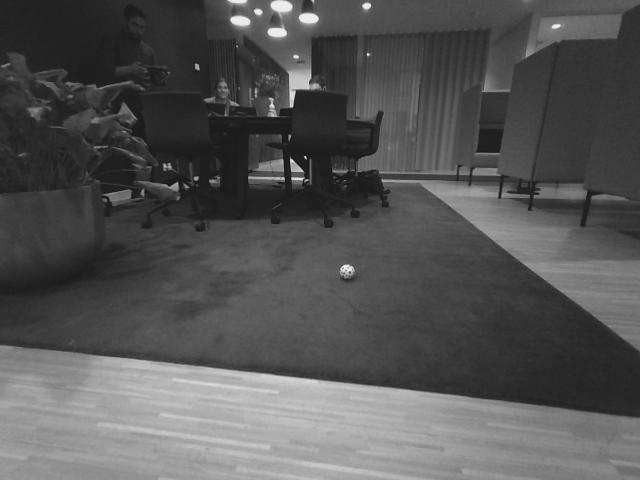dogtoy: (334, 260, 363, 285)
